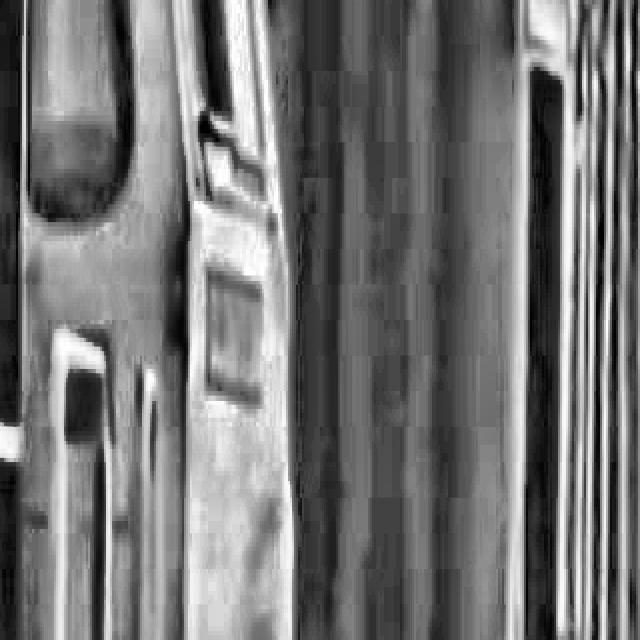Kereta: (204, 0, 640, 640)
Lokomotif: (0, 0, 322, 640)
